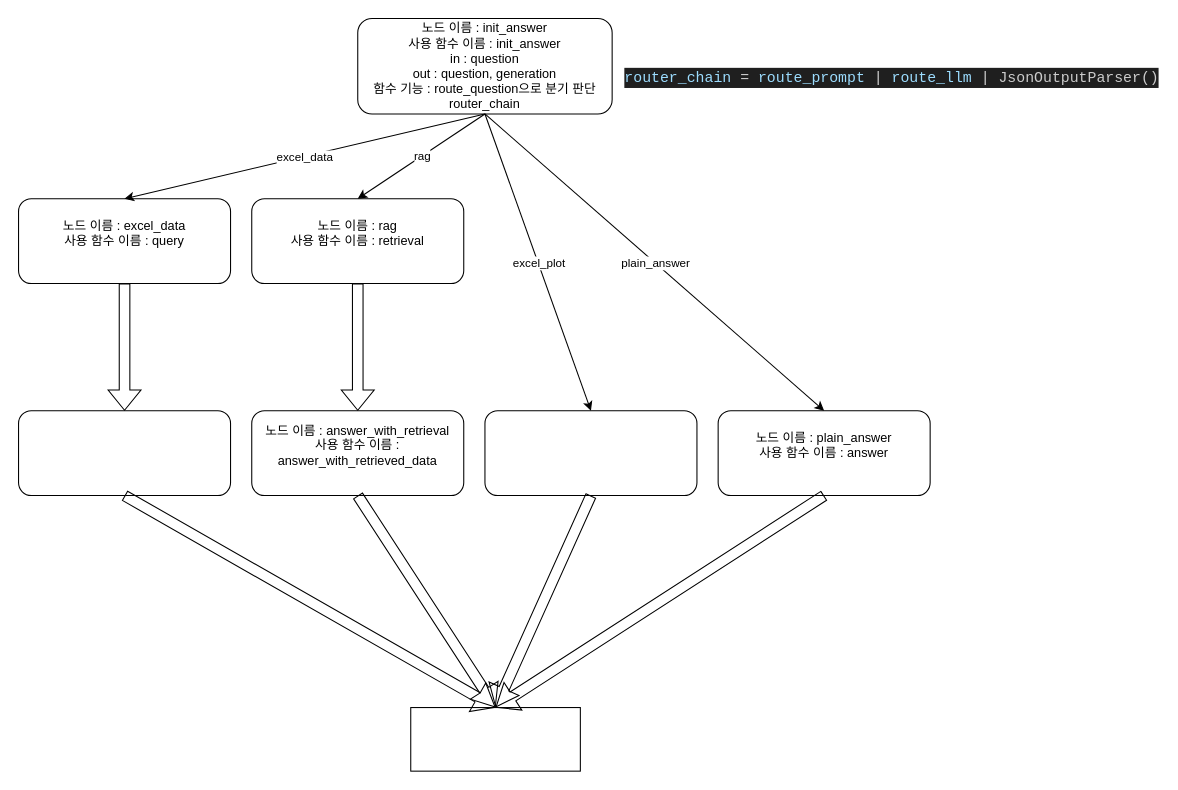
Image size: 1178x790. Some labels were removed from this diagram. The shapes that lost their labels are listed below. From the top down, each one's centre as x and y in pixels, then its label:
(124,453): 노드 이름 : answer_with_data 사용 함수 이름 : answer_with_data
(590,453): 노드 이름 : excel_plot 사용 함수 이름 : plot_graph
(495,738): end
